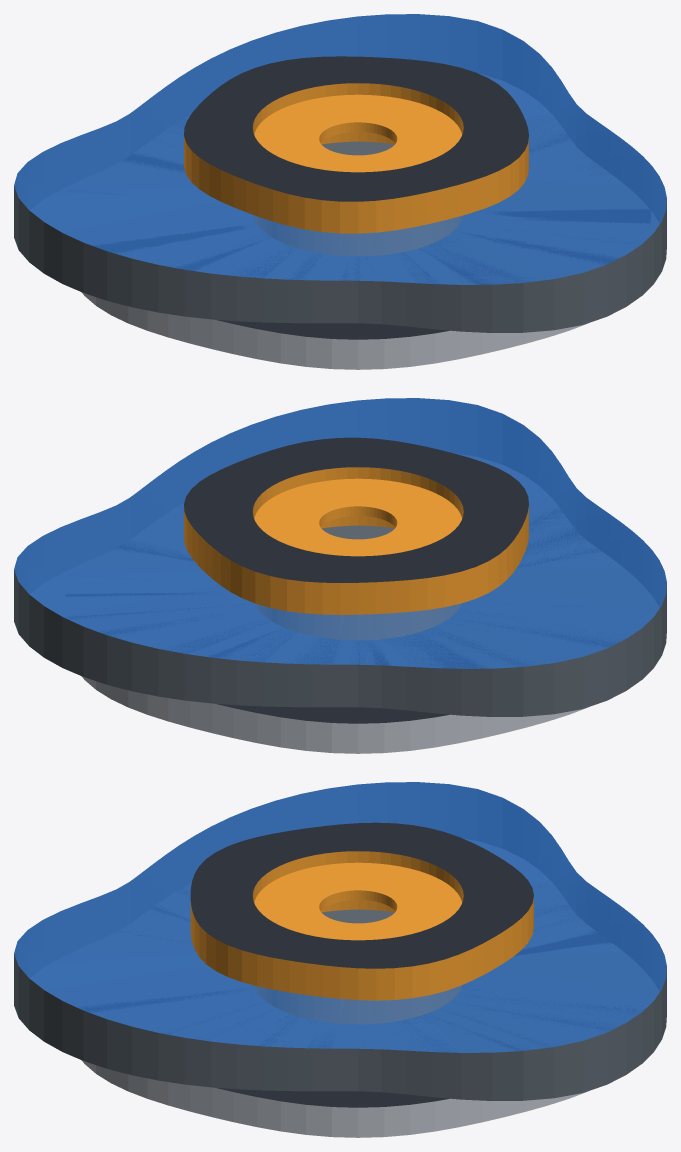
The model's file is assembly_phase2b_tip_taper_balance.glb.
3 renders of one model, top to bottom at view 1: azimuth 30°, elevation 25°; view 2: azimuth 150°, elevation 25°; view 3: azimuth 270°, elevation 25°, orthographic.
Parts seen in each view (by area): view 1: GEO_blade_storm_fang_BODY, GEO_core_solar_wolf_BODY, GEO_assist_heavy_BODY, GEO_core_solar_wolf_NSS_V1_COLLAR, GEO_blade_storm_fang_NSS_V1_COLLAR; view 2: GEO_blade_storm_fang_BODY, GEO_core_solar_wolf_BODY, GEO_assist_heavy_BODY, GEO_core_solar_wolf_NSS_V1_COLLAR, GEO_blade_storm_fang_NSS_V1_COLLAR; view 3: GEO_blade_storm_fang_BODY, GEO_core_solar_wolf_BODY, GEO_assist_heavy_BODY, GEO_core_solar_wolf_NSS_V1_COLLAR, GEO_blade_storm_fang_NSS_V1_COLLAR.
Boxes of the visible parts, x1,y1,x2,y2 form: GEO_blade_storm_fang_BODY: (14, 14, 666, 332); GEO_core_solar_wolf_BODY: (184, 56, 528, 233); GEO_assist_heavy_BODY: (70, 123, 650, 369); GEO_core_solar_wolf_NSS_V1_COLLAR: (254, 94, 462, 172); GEO_blade_storm_fang_NSS_V1_COLLAR: (321, 141, 394, 155); GEO_blade_storm_fang_BODY: (14, 398, 666, 716); GEO_core_solar_wolf_BODY: (184, 437, 528, 614); GEO_assist_heavy_BODY: (65, 508, 615, 753); GEO_core_solar_wolf_NSS_V1_COLLAR: (254, 478, 462, 556); GEO_blade_storm_fang_NSS_V1_COLLAR: (321, 525, 394, 539); GEO_blade_storm_fang_BODY: (14, 782, 666, 1100); GEO_core_solar_wolf_BODY: (190, 822, 533, 1000); GEO_assist_heavy_BODY: (79, 888, 642, 1137); GEO_core_solar_wolf_NSS_V1_COLLAR: (254, 862, 462, 940); GEO_blade_storm_fang_NSS_V1_COLLAR: (321, 909, 394, 923).
Size of the model in its own units: 0.0664 by 0.0254 by 0.0669.
